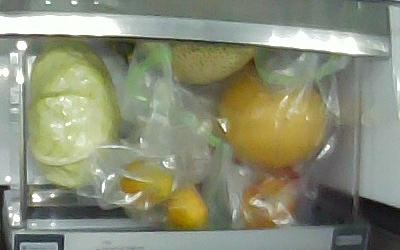cabbage_vinyl: (31, 41, 119, 188)
melon: (169, 42, 254, 83)
pear_vinyl: (216, 62, 328, 166)
prune_vinyl: (241, 178, 299, 228)
tangerine_vinyl: (120, 160, 174, 208), (166, 187, 208, 230)
